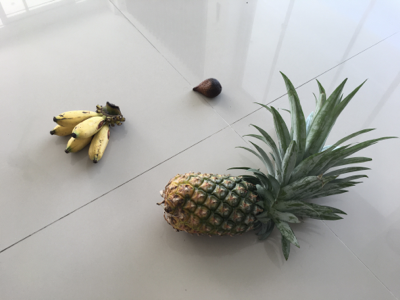banana: (50, 103, 125, 165)
pineapple: (161, 70, 396, 260)
snake fruit: (193, 78, 223, 98)
